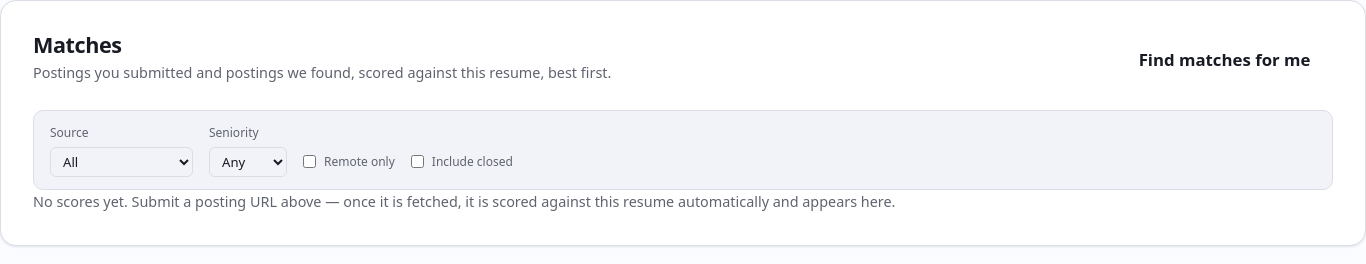
it: the empty feed › tells a filtered user to widen, not to go submit something
Click the checkbox labelled "Remote only": [310, 162] box [303,155,316,168]
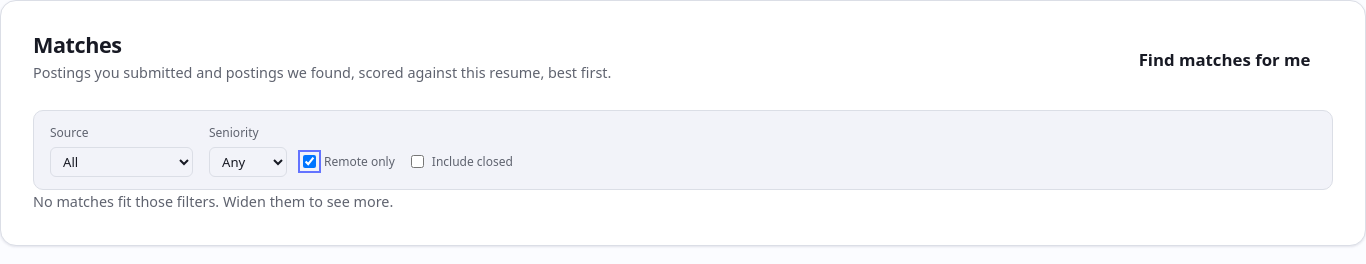
Expected: the text "No matches fit those filters. Widen them to see more." is shown, [33,192,393,210]
